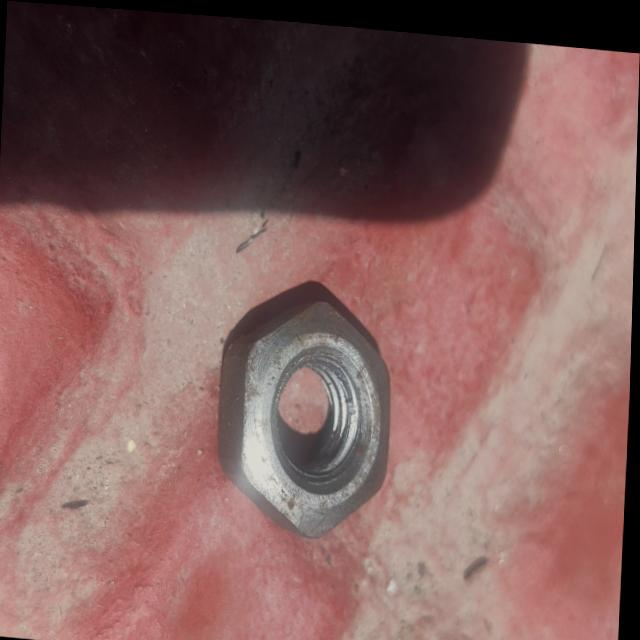disinfected nut: (219, 278, 391, 533), (283, 387, 288, 390)
